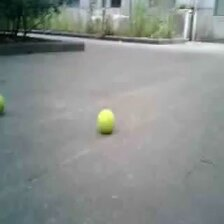tennis: (97, 109, 116, 133)
